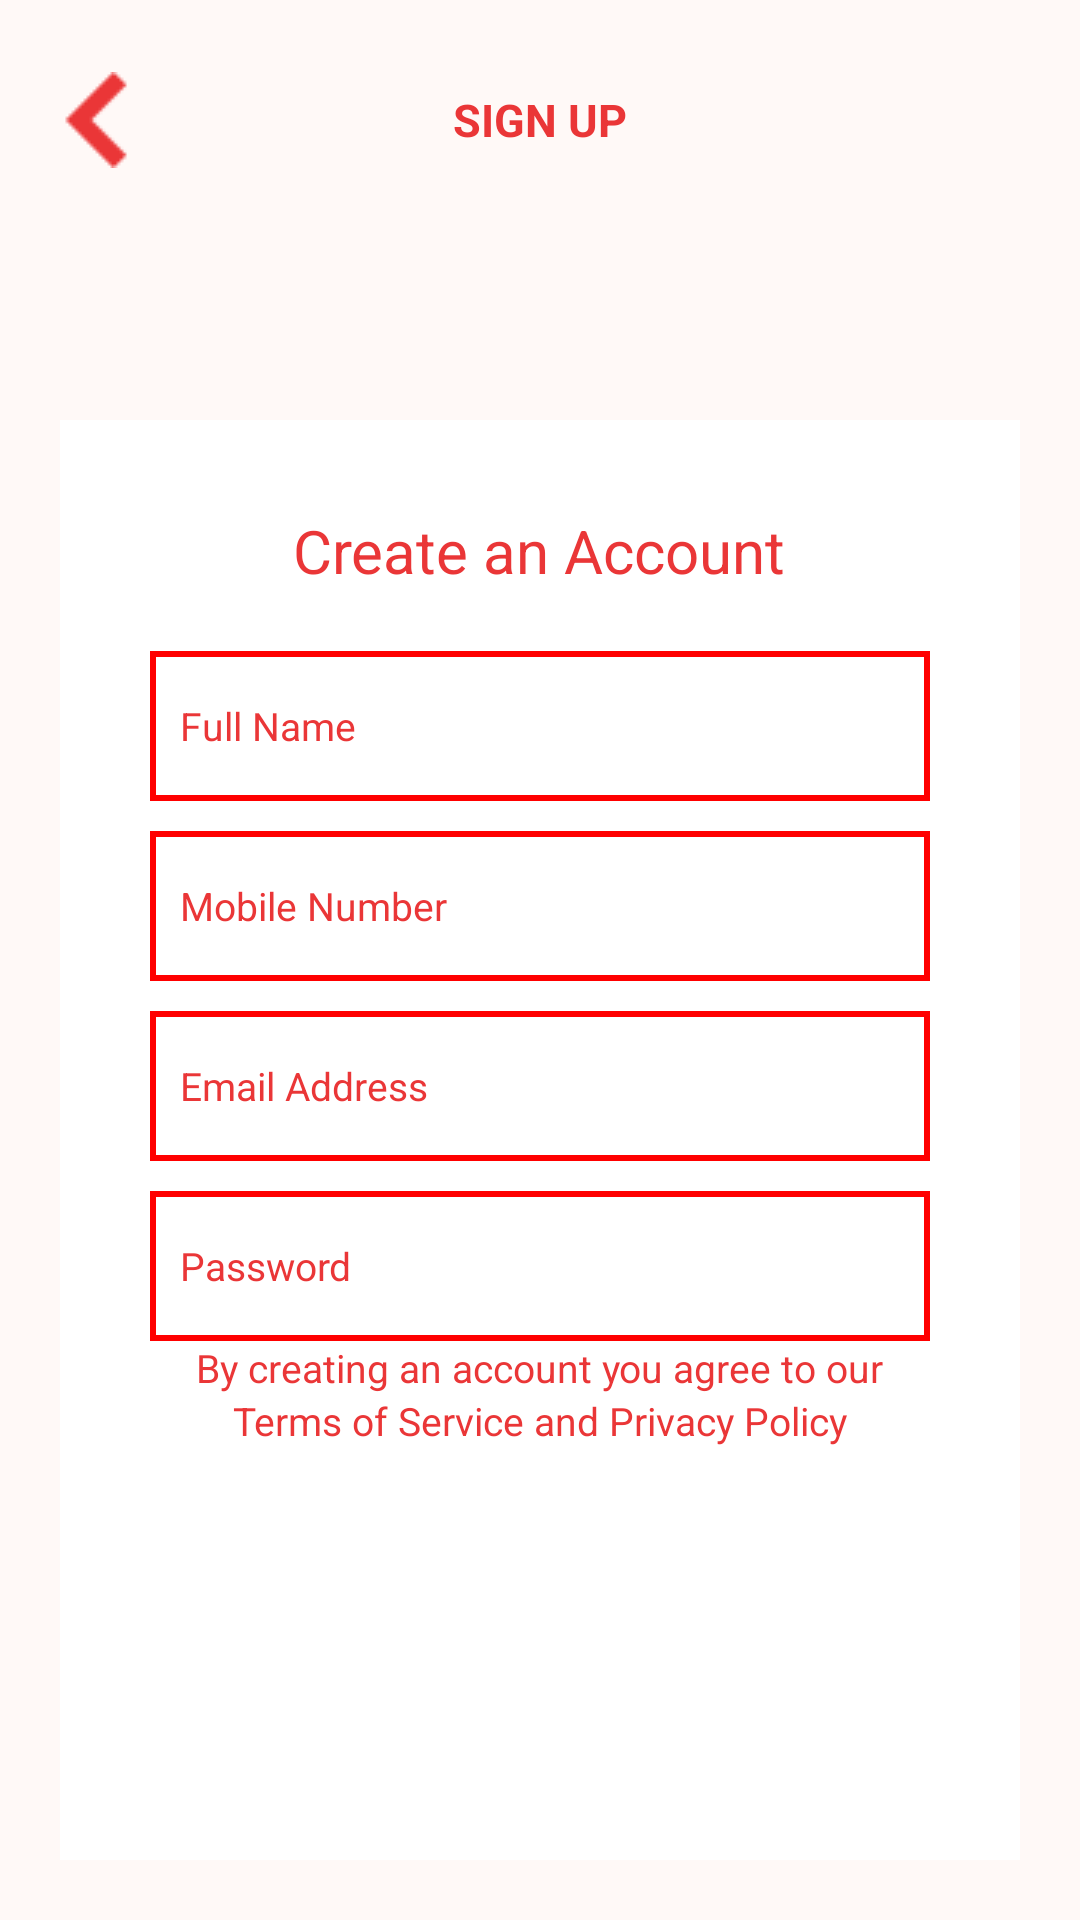

Icon click points for this 1080w x 1920h phone screenshot, format (x=x, y=y):
backorange: (x=96, y=120)
